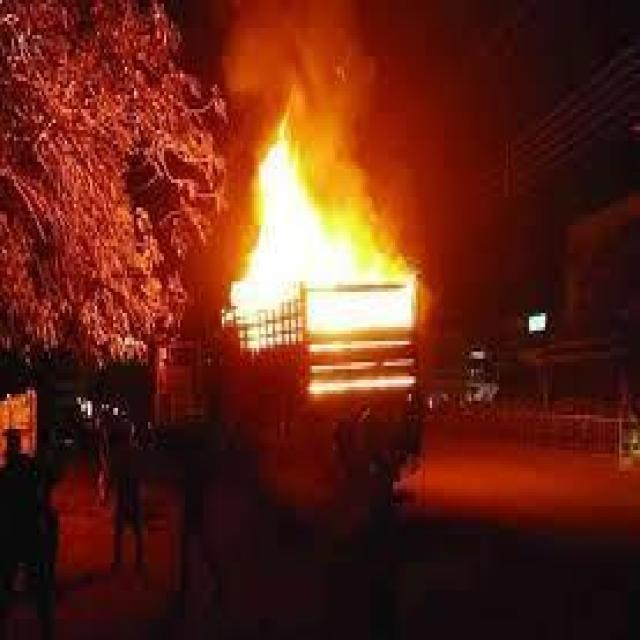fire: (224, 110, 453, 386)
